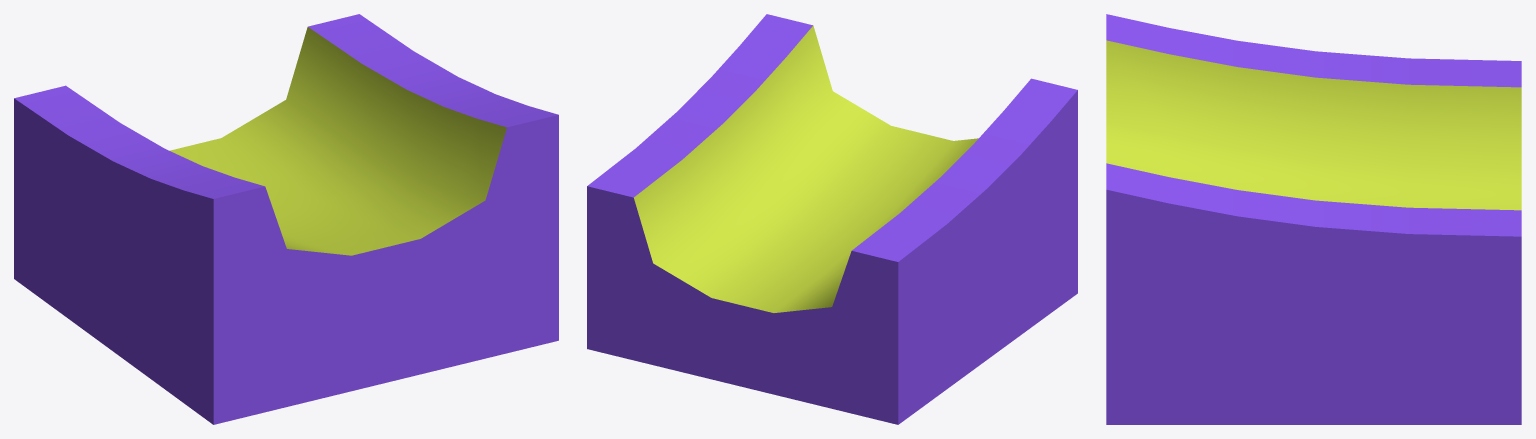
Rendered from rampStart_solid_A.fbx.
3 renders of one model, left to right at view 1: azimuth 30°, elevation 25°; view 2: azimuth 150°, elevation 25°; view 3: azimuth 270°, elevation 25°, orthographic. The views are drawn at different scales.
Visible parts, largest first — view 1: rampStart_solid_A; view 2: rampStart_solid_A; view 3: rampStart_solid_A.
Boxes of the visible parts, left/top/right/bottom form: rampStart_solid_A: left=14, top=14, right=558, bottom=424; rampStart_solid_A: left=587, top=14, right=1077, bottom=424; rampStart_solid_A: left=1106, top=14, right=1521, bottom=424.
Size of the model in its own units: 10 by 6.25 by 10.
